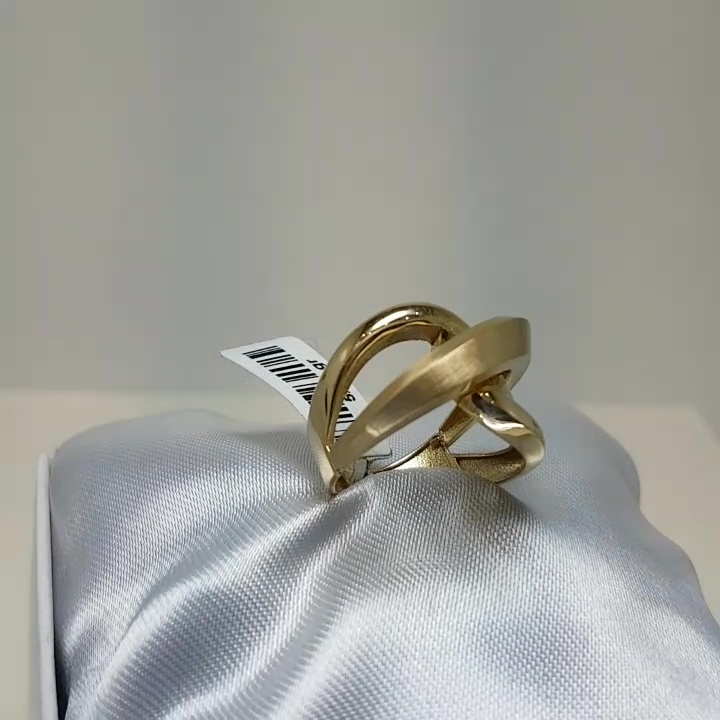Ring 3: (293, 277, 575, 526)
